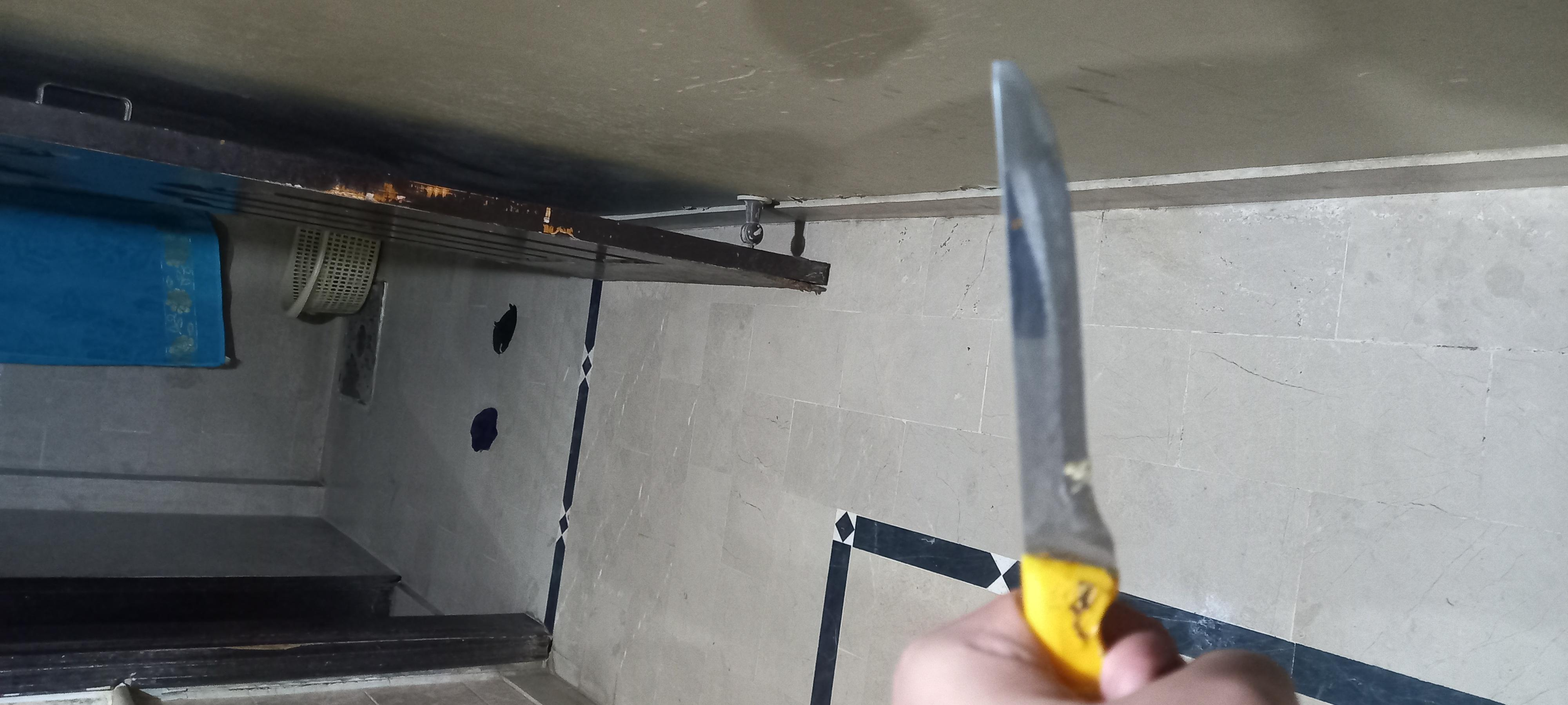knives: (1, 439, 1477, 534)
